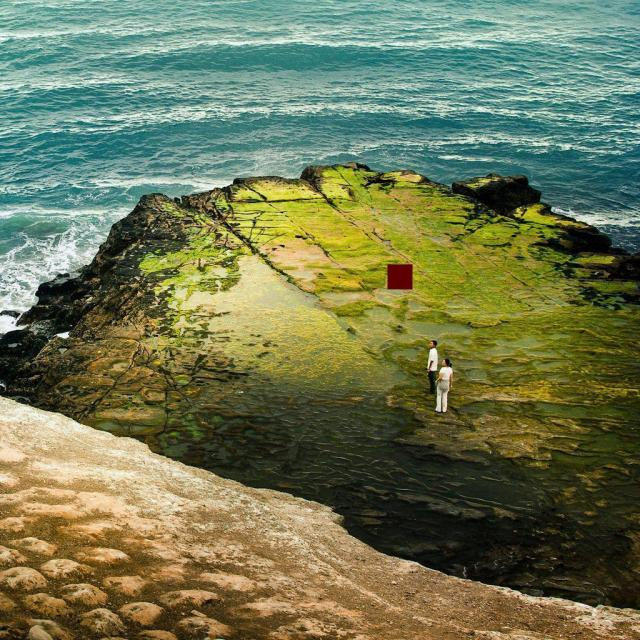RedSquare: (380, 257, 420, 297)
